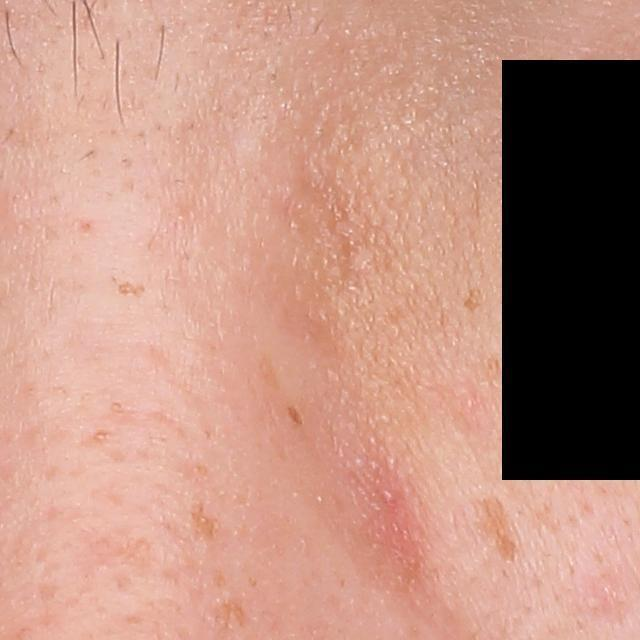melasma: (477, 497, 521, 568), (187, 497, 227, 543), (116, 279, 146, 302), (460, 288, 484, 309), (287, 405, 304, 426)
